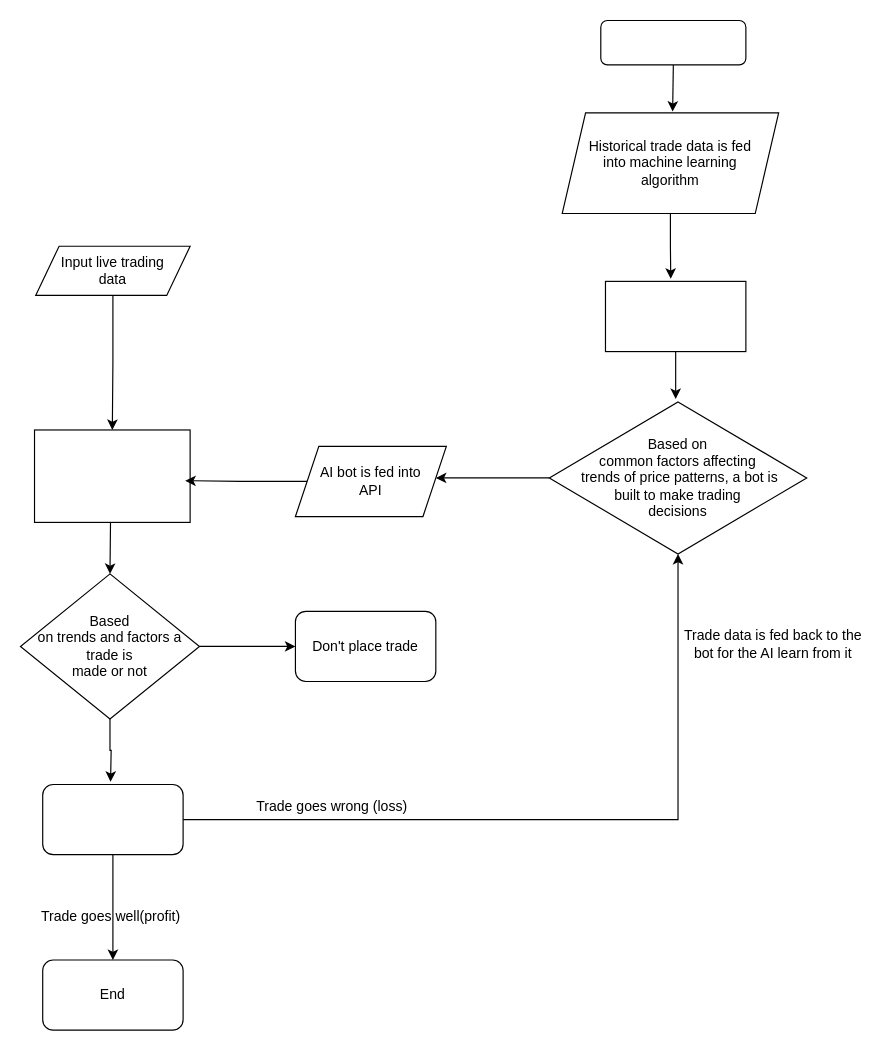
Image size: 888x1051. Some labels were removed from this diagram. The centre of each missing label's shape, as x and y in pixels:
"AI bot reads and accesses trading data for trends and patterns" belongs at point 111,475.
"AI reads and accesses previous trends and trading patterns" belongs at point 675,316.
"Place trade" belongs at point 112,819.
"Start" belongs at point 673,42.
